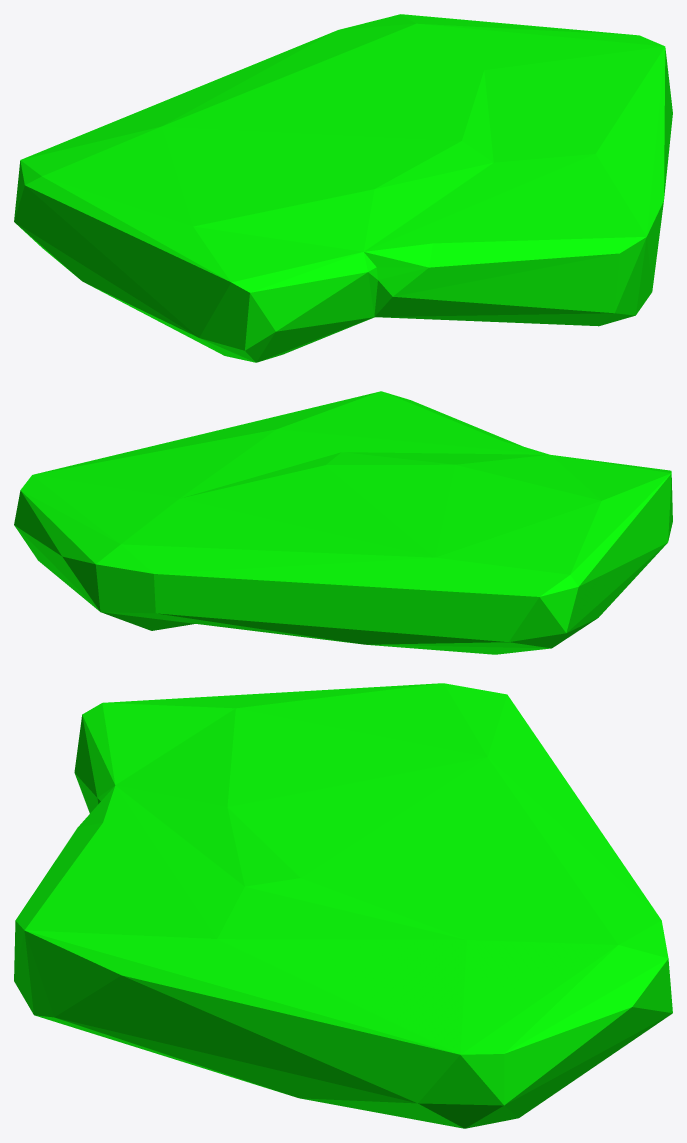
File: SM_Iceberg_Small_B_Rock.fbx
3 views of the same model, one above another, from view 1: azimuth 30°, elevation 25°; view 2: azimuth 150°, elevation 25°; view 3: azimuth 270°, elevation 25° (orthographic). The views are drawn at different scales.
Visible parts, largest first — view 1: SM_Iceberg_Small_B_Rock; view 2: SM_Iceberg_Small_B_Rock; view 3: SM_Iceberg_Small_B_Rock.
Boxes of the visible parts, bbox=[...] form: SM_Iceberg_Small_B_Rock: bbox=[14, 14, 672, 362]; SM_Iceberg_Small_B_Rock: bbox=[14, 391, 672, 654]; SM_Iceberg_Small_B_Rock: bbox=[14, 683, 672, 1128].
Size of the model in its own units: 7.47 by 1.69 by 5.99.
